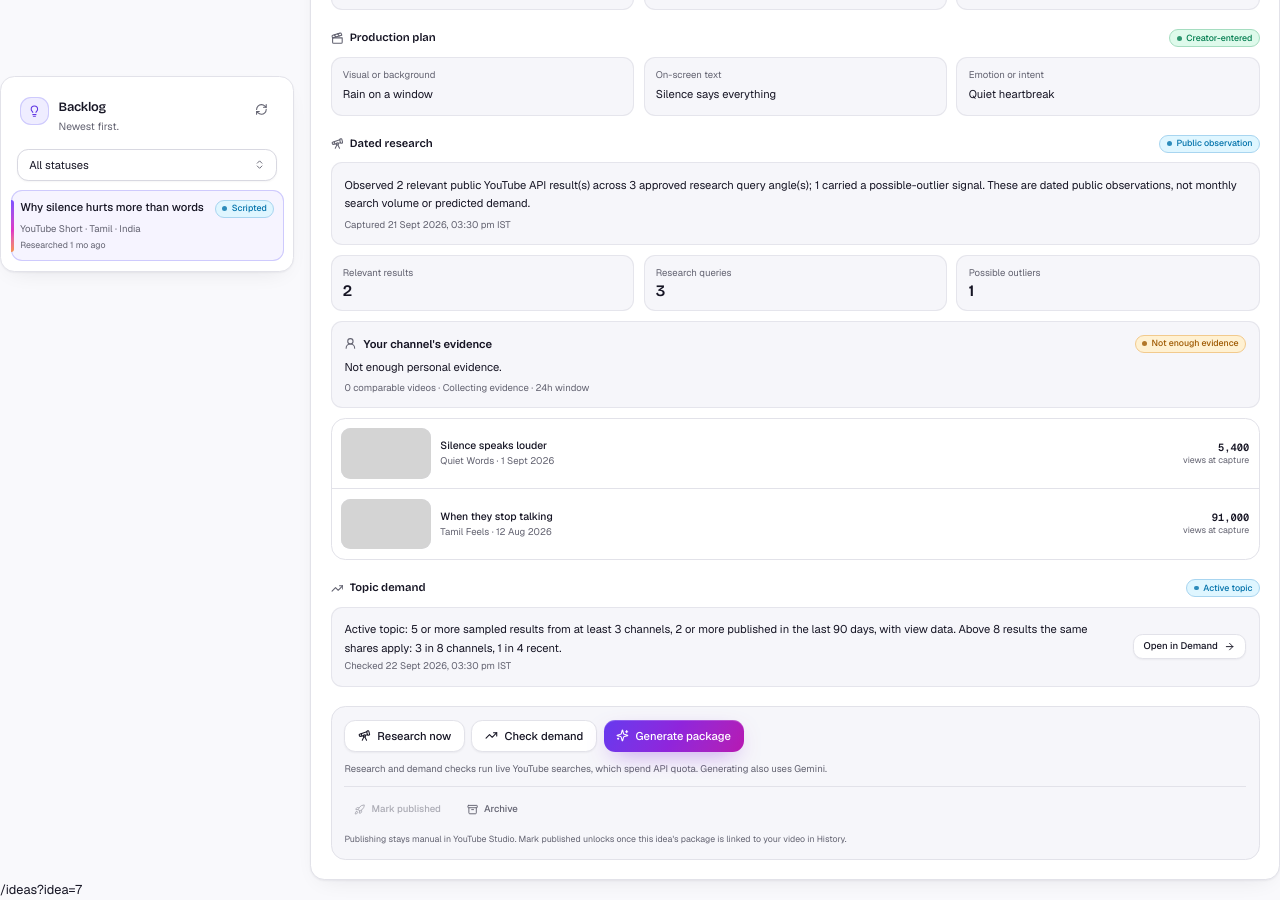
Test: IdeasPage › generates a package and links to it in History
(page scrolled)
What coordinates should you click on to do the following:
click the button "Generate package"
I would click on:
 (674, 736)
Its box is [604,720,744,752].
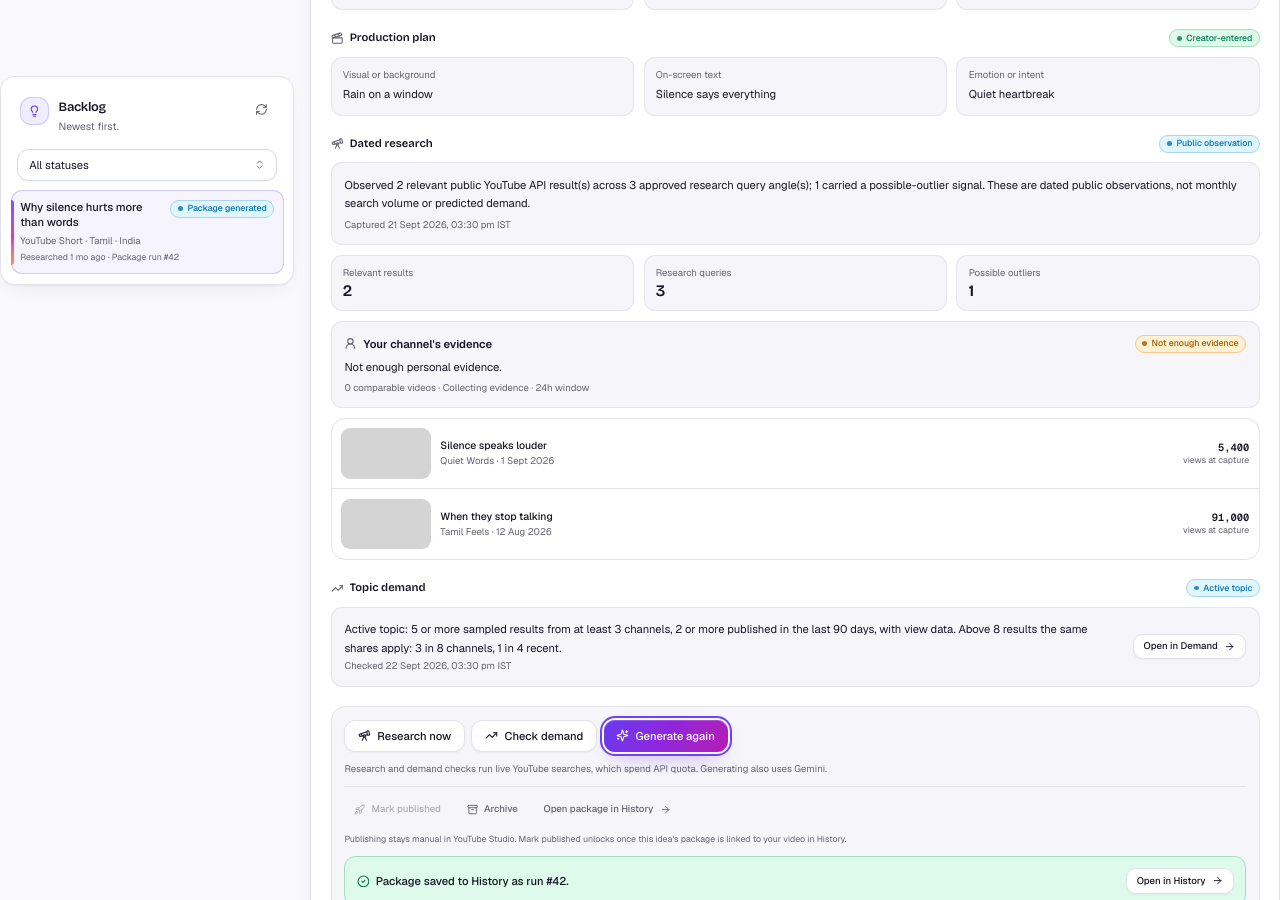
expect the text "Package saved to History as run #42." is shown: met, box [357,873,569,889]
expect the button "Generate again" is shown: met, box [604,720,728,752]
